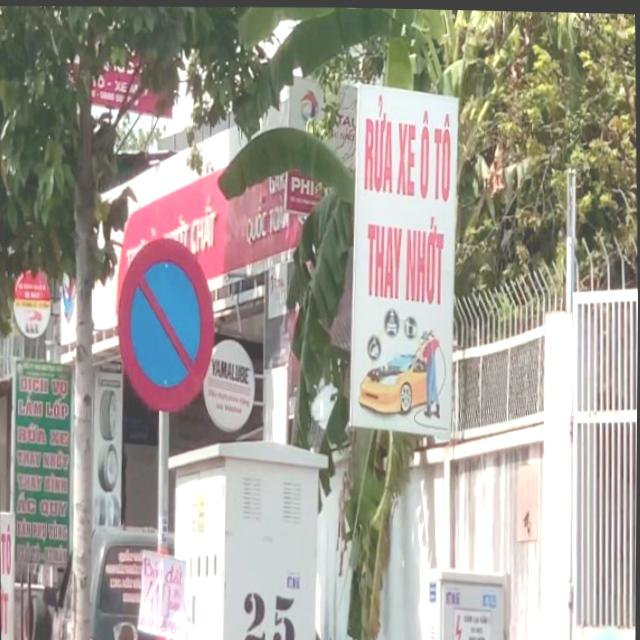Cam do xe: (107, 222, 224, 422)
